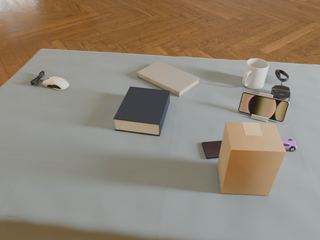book: (114, 87, 170, 136), (137, 61, 200, 97)
box: (217, 122, 286, 195)
cup: (242, 59, 269, 89)
mouse: (42, 77, 69, 90), (271, 84, 290, 102)
phone: (238, 92, 289, 122), (202, 141, 222, 159)
toy_car: (281, 138, 297, 151)
